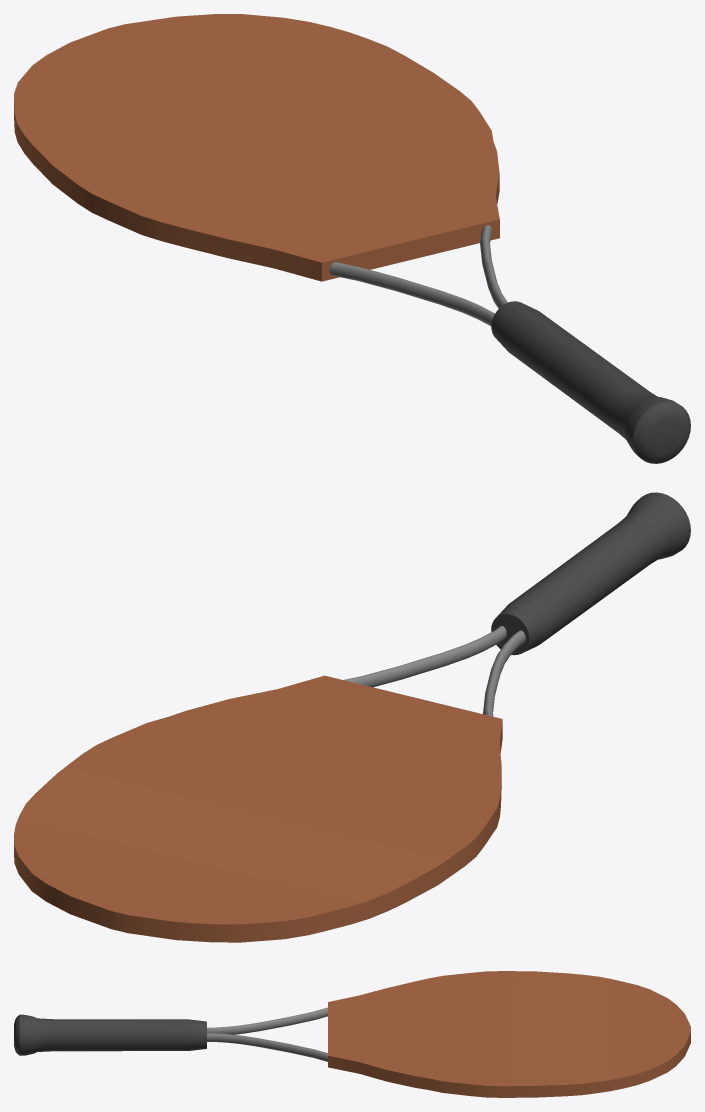
Rendered from Racket.fbx.
3 views of the same model, one above another, from view 1: azimuth 30°, elevation 25°; view 2: azimuth 150°, elevation 25°; view 3: azimuth 270°, elevation 25° (orthographic). The views are drawn at different scales.
Visible parts, largest first — view 1: Cylinder; view 2: Cylinder; view 3: Cylinder.
Boxes of the visible parts, x1,y1,x2,y2 form: Cylinder: (14, 14, 690, 463); Cylinder: (14, 492, 690, 942); Cylinder: (14, 971, 690, 1097).
Bounding box in the file's own units: 28.36 × 4.29 × 70.44.
